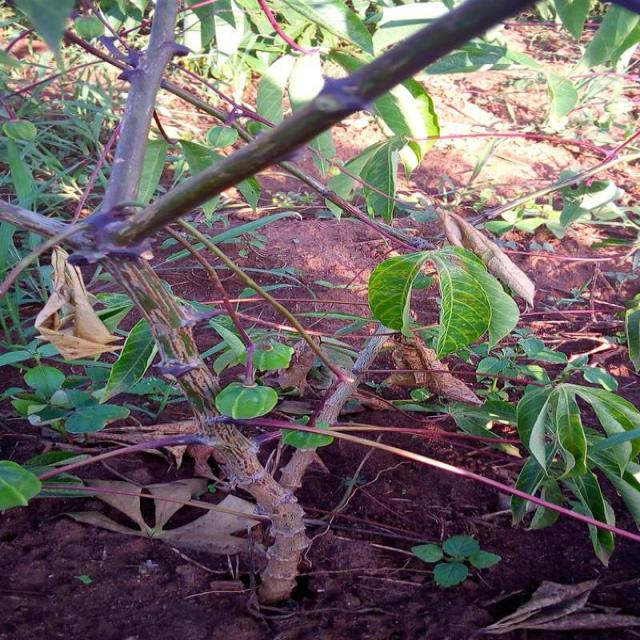cassava leaf: (368, 243, 521, 360)
